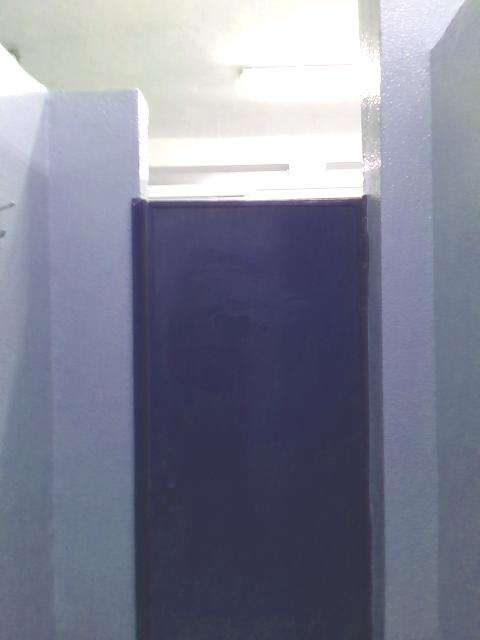closed_door: (129, 200, 386, 638)
